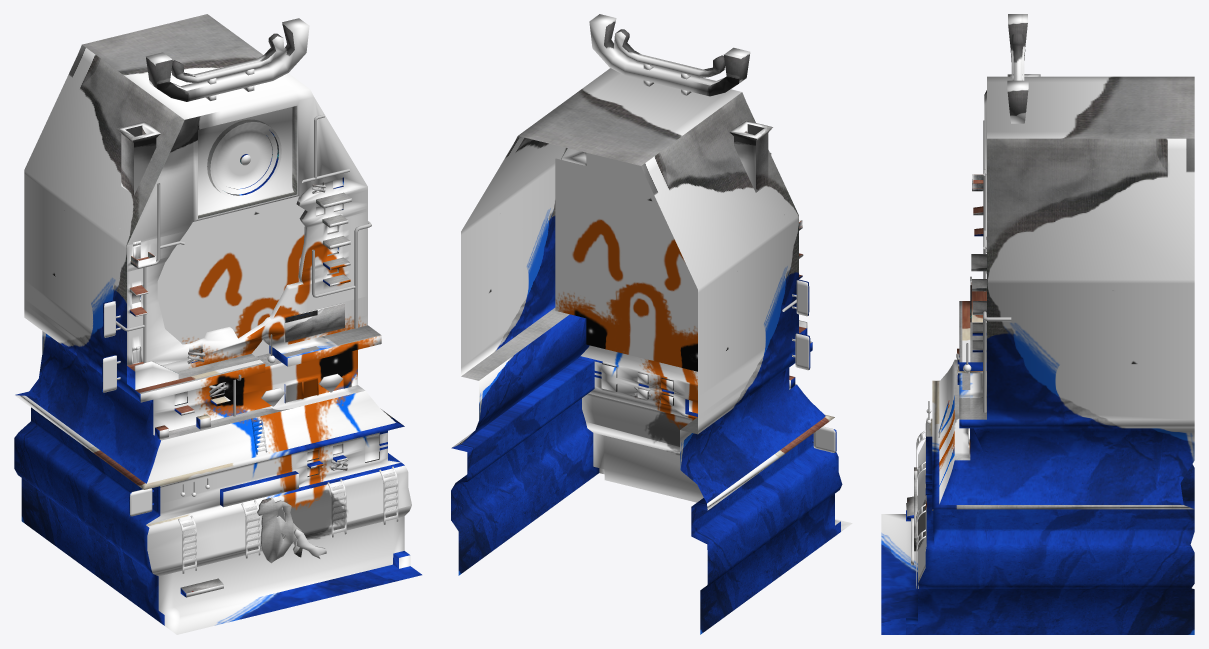
Rendered from TowerNathan3.fbx.
3 views of the same model, side by side, from view 1: azimuth 30°, elevation 25°; view 2: azimuth 150°, elevation 25°; view 3: azimuth 270°, elevation 25° (orthographic). The views are drawn at different scales.
Parts seen in each view (by area): view 1: Mesh_polySurface31_000, Mesh_polySurface31_001; view 2: Mesh_polySurface31_000; view 3: Mesh_polySurface31_000, Mesh_polySurface31_001.
Boxes of the visible parts, left/top/right/bottom form: Mesh_polySurface31_000: left=14, top=14, right=421, bottom=634; Mesh_polySurface31_001: left=116, top=114, right=371, bottom=492; Mesh_polySurface31_000: left=451, top=14, right=852, bottom=634; Mesh_polySurface31_000: left=881, top=14, right=1194, bottom=634; Mesh_polySurface31_001: left=928, top=120, right=1011, bottom=419.
Bounding box in the file's own units: 8.99 × 16.5 × 8.99.
